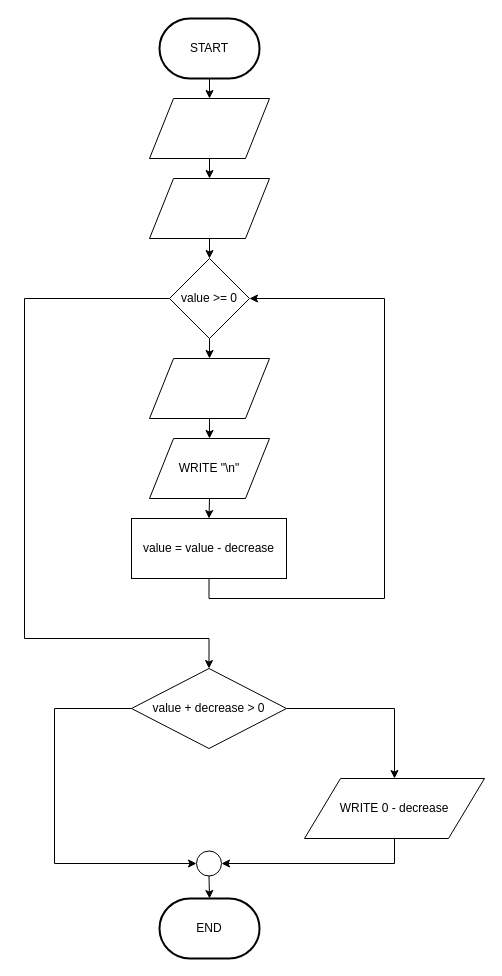
This 502x976 diagram has some shape labels left out. Here are the shapes that lost their labels. From the top down, the box of each, then its label:
(148, 98, 270, 158): READ value
(148, 178, 270, 238): READ decrease
(148, 358, 270, 418): WRITE value
